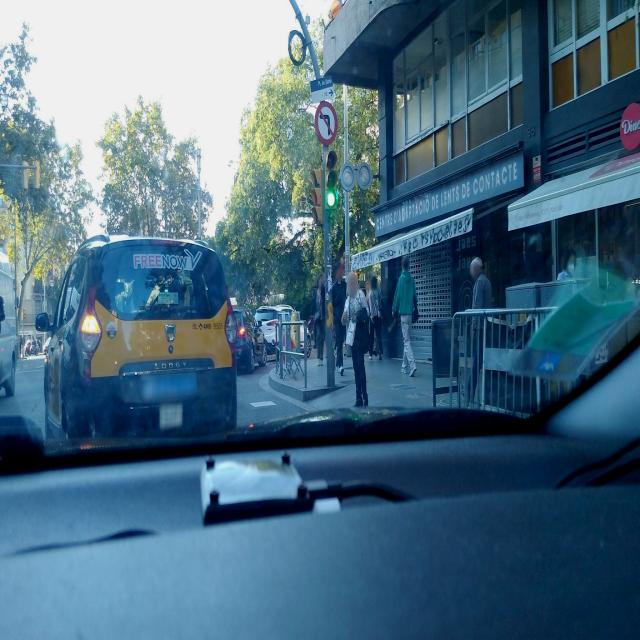car: (42, 231, 238, 448), (254, 303, 304, 358), (232, 307, 268, 373), (0, 277, 18, 407)
